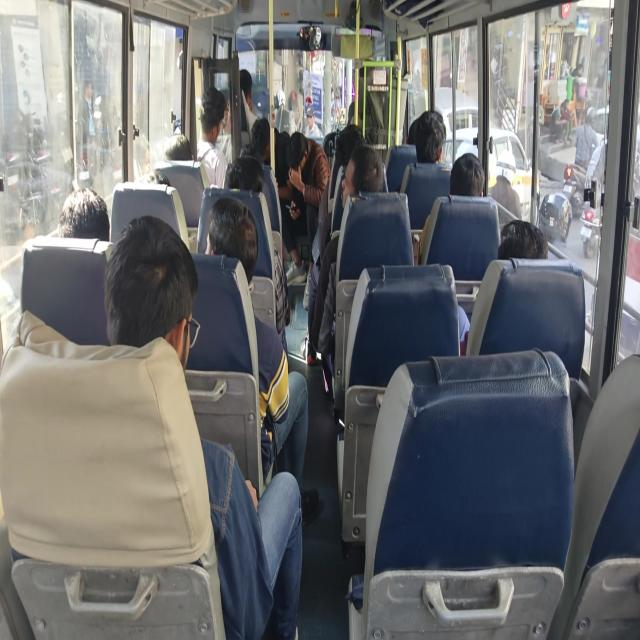person: (104, 213, 303, 639), (204, 196, 319, 524), (309, 145, 387, 366), (458, 219, 548, 348), (285, 131, 330, 283), (196, 85, 228, 188), (57, 187, 110, 241), (408, 110, 447, 164), (498, 219, 548, 260), (574, 105, 598, 171), (449, 152, 484, 196), (239, 68, 258, 136), (163, 132, 194, 162), (303, 105, 322, 139)
